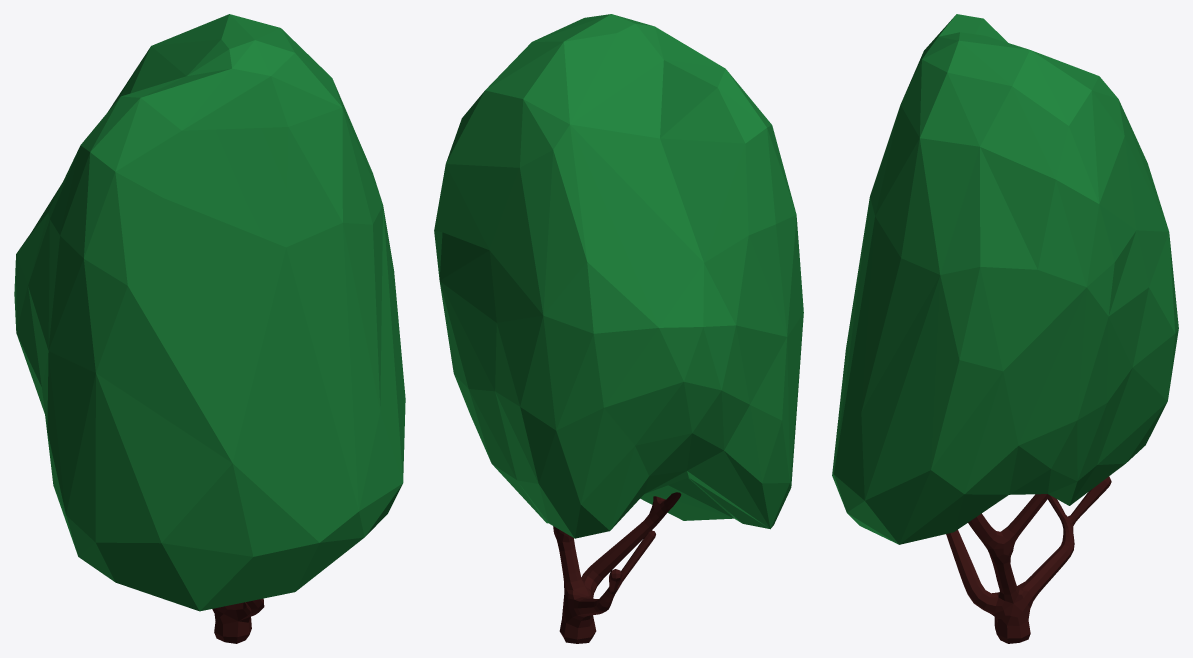
3 renders of one model, left to right at view 1: azimuth 30°, elevation 25°; view 2: azimuth 150°, elevation 25°; view 3: azimuth 270°, elevation 25°, orthographic. The views are drawn at different scales.
Parts seen in each view (by area): view 1: tree6_Icosphere.009, Plane.013; view 2: tree6_Icosphere.009, Plane.013; view 3: tree6_Icosphere.009, Plane.013.
Part boxes in pixels (x1,y1,x2,y2): tree6_Icosphere.009: (14,14,405,611); Plane.013: (212,598,264,643); tree6_Icosphere.009: (434,14,803,538); Plane.013: (553,492,681,643); tree6_Icosphere.009: (832,14,1178,544); Plane.013: (946,476,1111,643).
Bounding box in the file's own units: 8.1 × 14.37 × 7.6.
